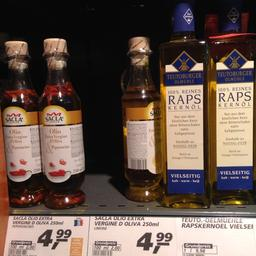oil: (158, 5, 208, 208), (207, 6, 255, 204), (34, 39, 86, 206), (114, 36, 162, 198), (0, 36, 41, 206)
